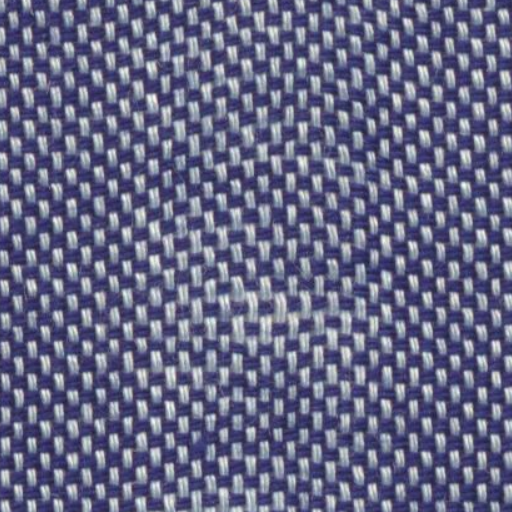TuoSha: (88, 18, 396, 486)
